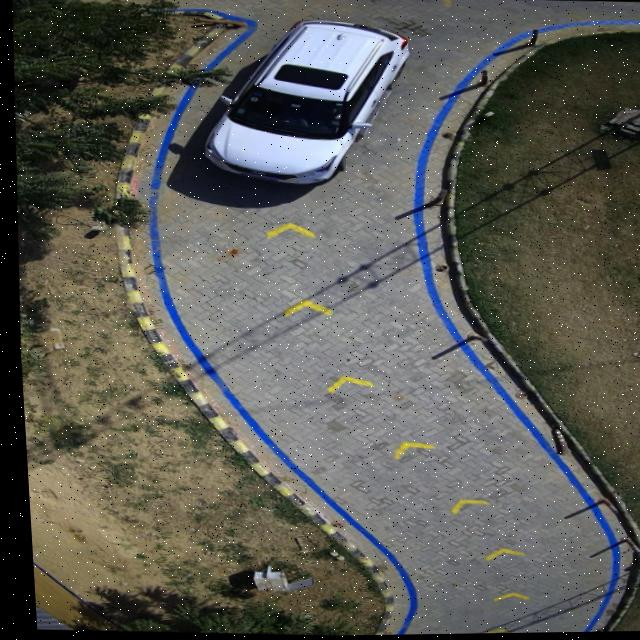car: (198, 19, 410, 185)
